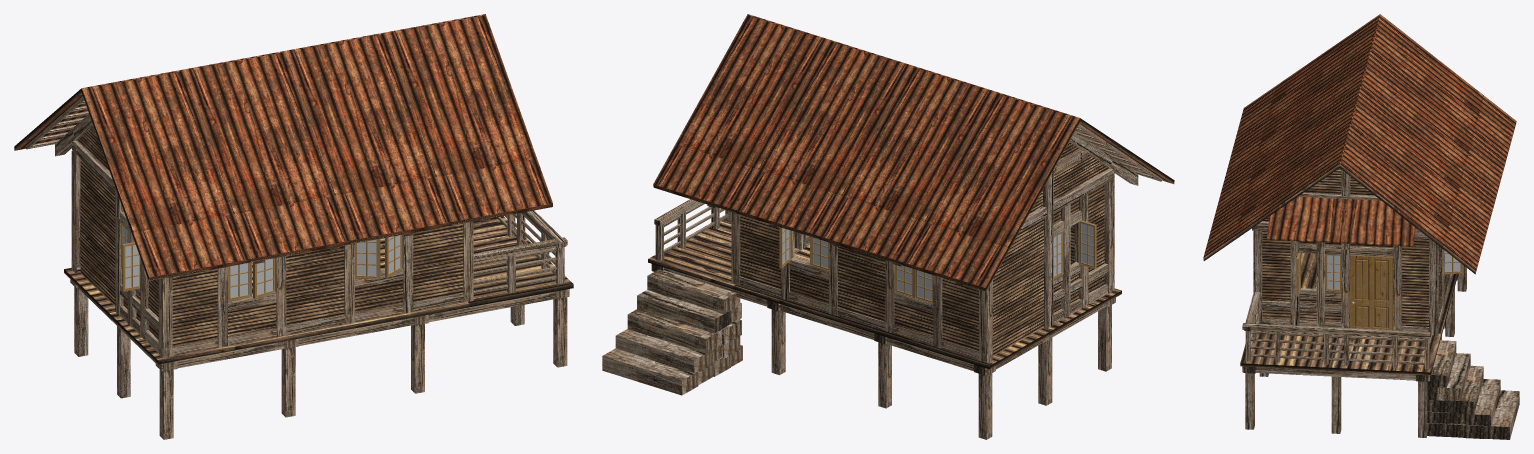
The model's file is casuta.obj.
3 views of the same model, side by side, from view 1: azimuth 30°, elevation 25°; view 2: azimuth 150°, elevation 25°; view 3: azimuth 270°, elevation 25° (orthographic). The views are drawn at different scales.
Parts seen in each view (by area): view 1: main_roof_Cube.007, walls_Cube.051, base_3_Cube.042, base2_Cube.041, base1_Cube.049, roof_base1_Cube.052, window4_left_Plane.012, window_rear_left_Plane.009, window3_right_Plane.013, window3_left_Plane.014, window4_right_Plane.011; view 2: main_roof_Cube.007, walls_Cube.051, stairs_Cube.074, base_3_Cube.042, base2_Cube.041, base1_Cube.049, roof_base1_Cube.052, window_rear_left_Plane.009, window2_left_Plane.008, window2_right_Plane.007, window1_left_Plane.004; view 3: main_roof_Cube.007, walls_Cube.051, stairs_Cube.074, base2_Cube.041, roof_2_Cube.013, base1_Cube.049, base_3_Cube.042, door_Plane, window_front_right_Plane.002, window1_right_Plane.003.
Boxes of the visible parts, x1=… form: main_roof_Cube.007: x1=14, y1=14, x2=552, y2=280; walls_Cube.051: x1=71, y1=124, x2=473, y2=357; base_3_Cube.042: x1=70, y1=279, x2=569, y2=439; base2_Cube.041: x1=64, y1=216, x2=573, y2=364; base1_Cube.049: x1=473, y1=210, x2=567, y2=294; roof_base1_Cube.052: x1=25, y1=96, x2=490, y2=277; window4_left_Plane.012: x1=355, y1=239, x2=380, y2=279; window_rear_left_Plane.009: x1=122, y1=242, x2=140, y2=291; window3_right_Plane.013: x1=253, y1=258, x2=276, y2=298; window3_left_Plane.014: x1=228, y1=262, x2=251, y2=301; window4_right_Plane.011: x1=385, y1=234, x2=402, y2=277; main_roof_Cube.007: x1=653, y1=14, x2=1174, y2=291; walls_Cube.051: x1=731, y1=142, x2=1114, y2=362; stairs_Cube.074: x1=602, y1=269, x2=742, y2=395; base_3_Cube.042: x1=651, y1=264, x2=1115, y2=439; base2_Cube.041: x1=648, y1=215, x2=1121, y2=369; base1_Cube.049: x1=654, y1=199, x2=731, y2=261; roof_base1_Cube.052: x1=707, y1=123, x2=1162, y2=285; window_rear_left_Plane.009: x1=1079, y1=220, x2=1096, y2=268; window2_left_Plane.008: x1=914, y1=269, x2=933, y2=303; window2_right_Plane.007: x1=894, y1=264, x2=913, y2=297; window1_left_Plane.004: x1=810, y1=236, x2=828, y2=271; main_roof_Cube.007: x1=1203, y1=14, x2=1516, y2=274; walls_Cube.051: x1=1252, y1=168, x2=1453, y2=335; stairs_Cube.074: x1=1427, y1=340, x2=1519, y2=439; base2_Cube.041: x1=1240, y1=253, x2=1458, y2=375; roof_2_Cube.013: x1=1267, y1=196, x2=1415, y2=246; base1_Cube.049: x1=1242, y1=292, x2=1430, y2=369; base_3_Cube.042: x1=1242, y1=265, x2=1466, y2=437; door_Plane: x1=1350, y1=255, x2=1392, y2=330; window_front_right_Plane.002: x1=1325, y1=254, x2=1341, y2=291; window1_right_Plane.003: x1=1444, y1=250, x2=1463, y2=274.
Bounding box in the file's own units: 13.75 × 9.3 × 10.41.
Materials: 5 (3 with a texture image).
